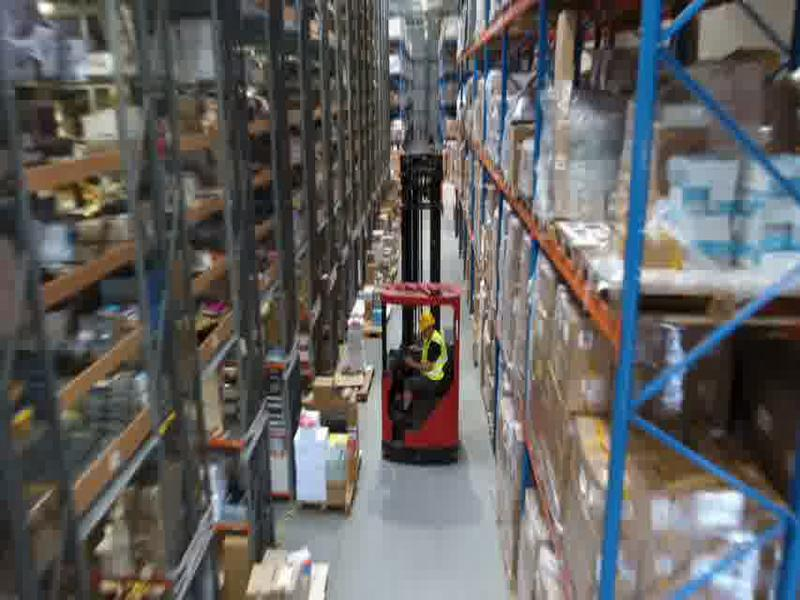hard-hat: (417, 311, 436, 333)
